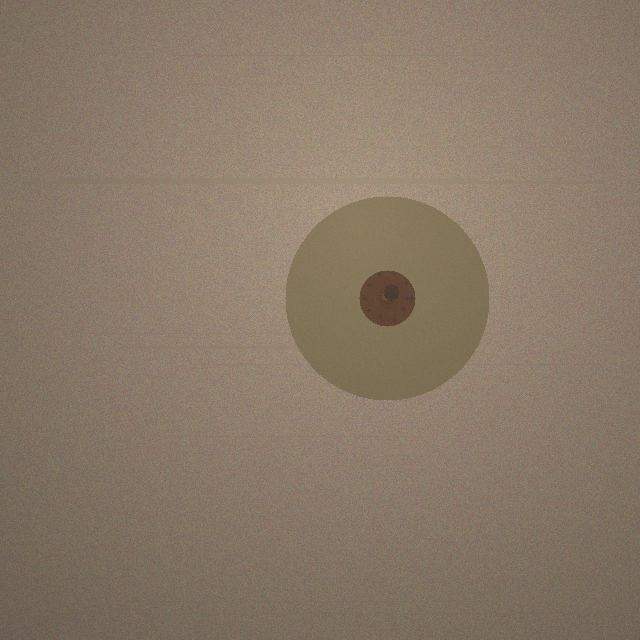cold_weld: (285, 196, 489, 400)
